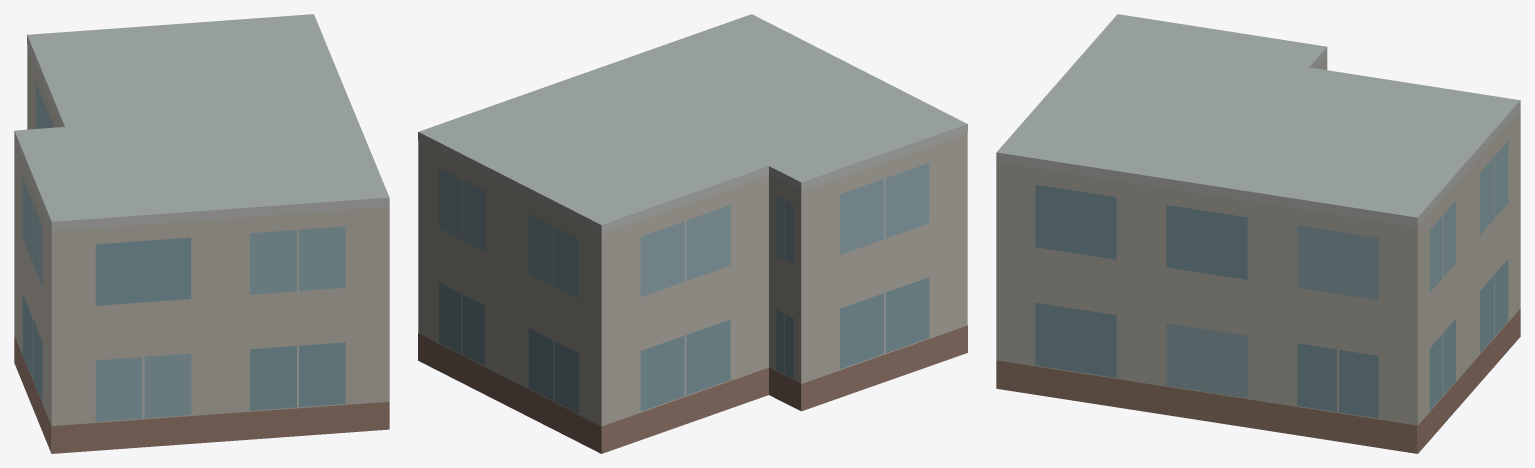
Rendered from survey-upis-32963398.glb.
The picture shows the model from 3 angles, left to right: view 1: azimuth 30°, elevation 25°; view 2: azimuth 150°, elevation 25°; view 3: azimuth 270°, elevation 25°; orthographic projection. The views are drawn at different scales.
Visible parts, largest first — view 1: survey-upis-32963398.tmp; view 2: survey-upis-32963398.tmp; view 3: survey-upis-32963398.tmp.
Boxes of the visible parts, x1=… form: survey-upis-32963398.tmp: x1=14, y1=14, x2=389, y2=453; survey-upis-32963398.tmp: x1=418, y1=14, x2=967, y2=453; survey-upis-32963398.tmp: x1=996, y1=14, x2=1520, y2=453.
Bounding box in the file's own units: 11.28 × 6.1 × 12.28.
